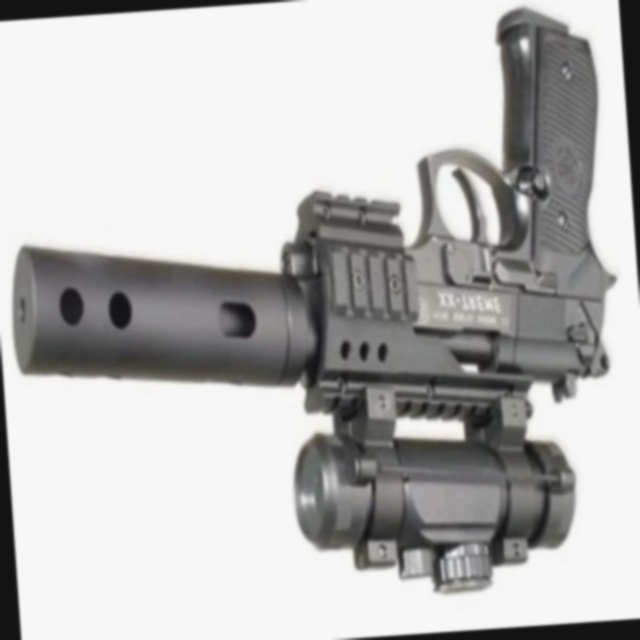gun: (0, 15, 635, 631)
